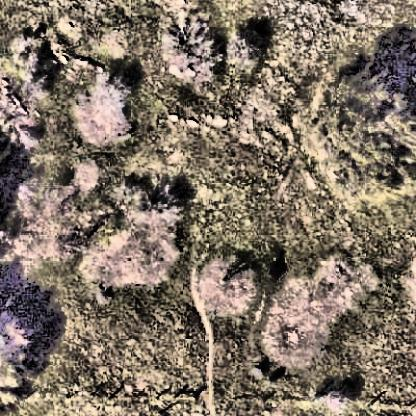tree-top: (300, 54, 416, 205), (74, 79, 141, 147), (154, 16, 221, 77), (124, 174, 190, 228), (12, 30, 59, 98), (226, 29, 272, 73), (317, 377, 361, 414)
